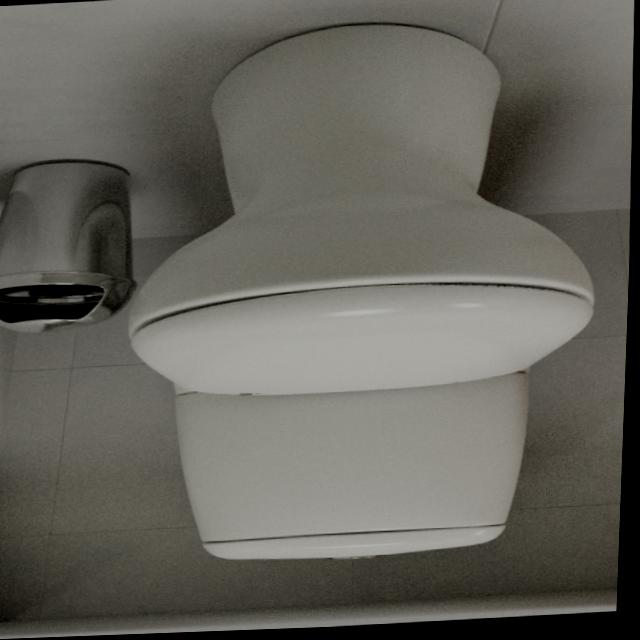toilet: (116, 15, 609, 573)
